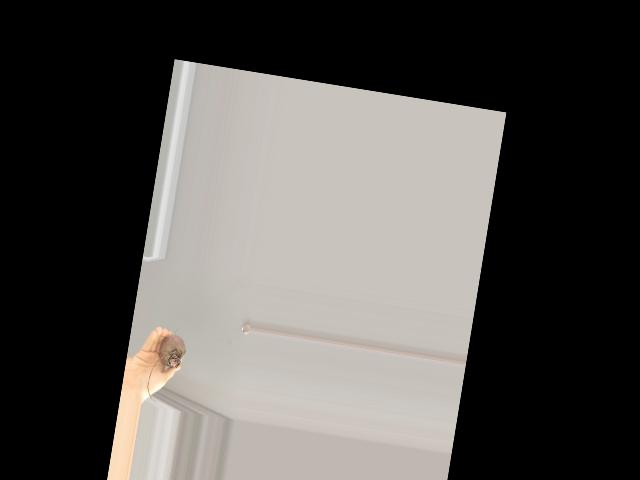beet: (144, 322, 188, 404)
